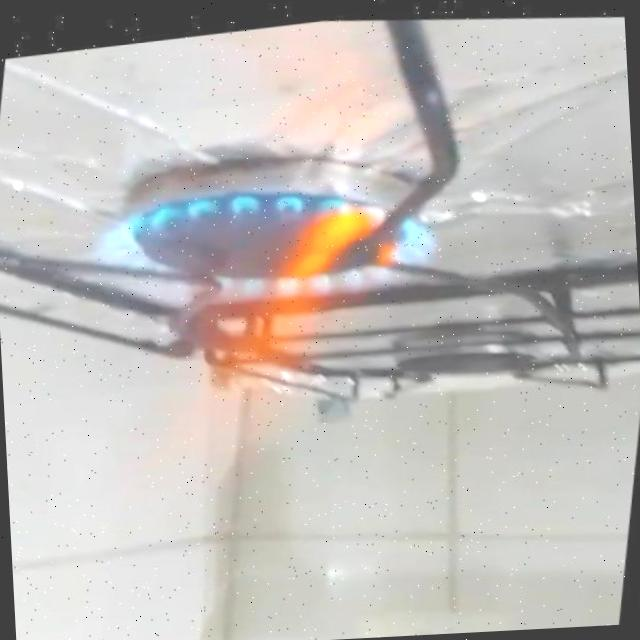fire: (51, 148, 470, 524)
